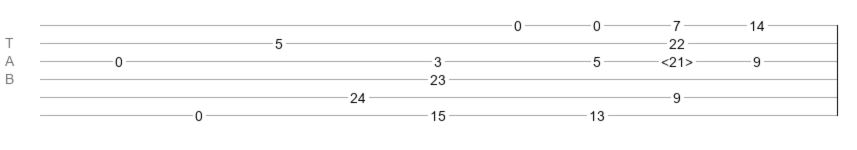0: (115, 54, 123, 64), (195, 108, 203, 118), (514, 18, 522, 28), (593, 18, 601, 28)
13: (589, 108, 605, 118)
14: (749, 18, 765, 28)
15: (430, 108, 446, 118)
22: (669, 36, 685, 46)
23: (430, 72, 446, 82)
24: (350, 90, 366, 100)
3: (434, 54, 442, 64)
5: (275, 36, 283, 46), (593, 54, 601, 64)
7: (673, 18, 681, 28)
9: (673, 90, 681, 100), (753, 54, 761, 64)
harmonic: (661, 54, 693, 64)
